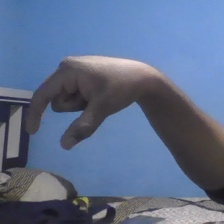Q: (21, 53, 143, 153)
